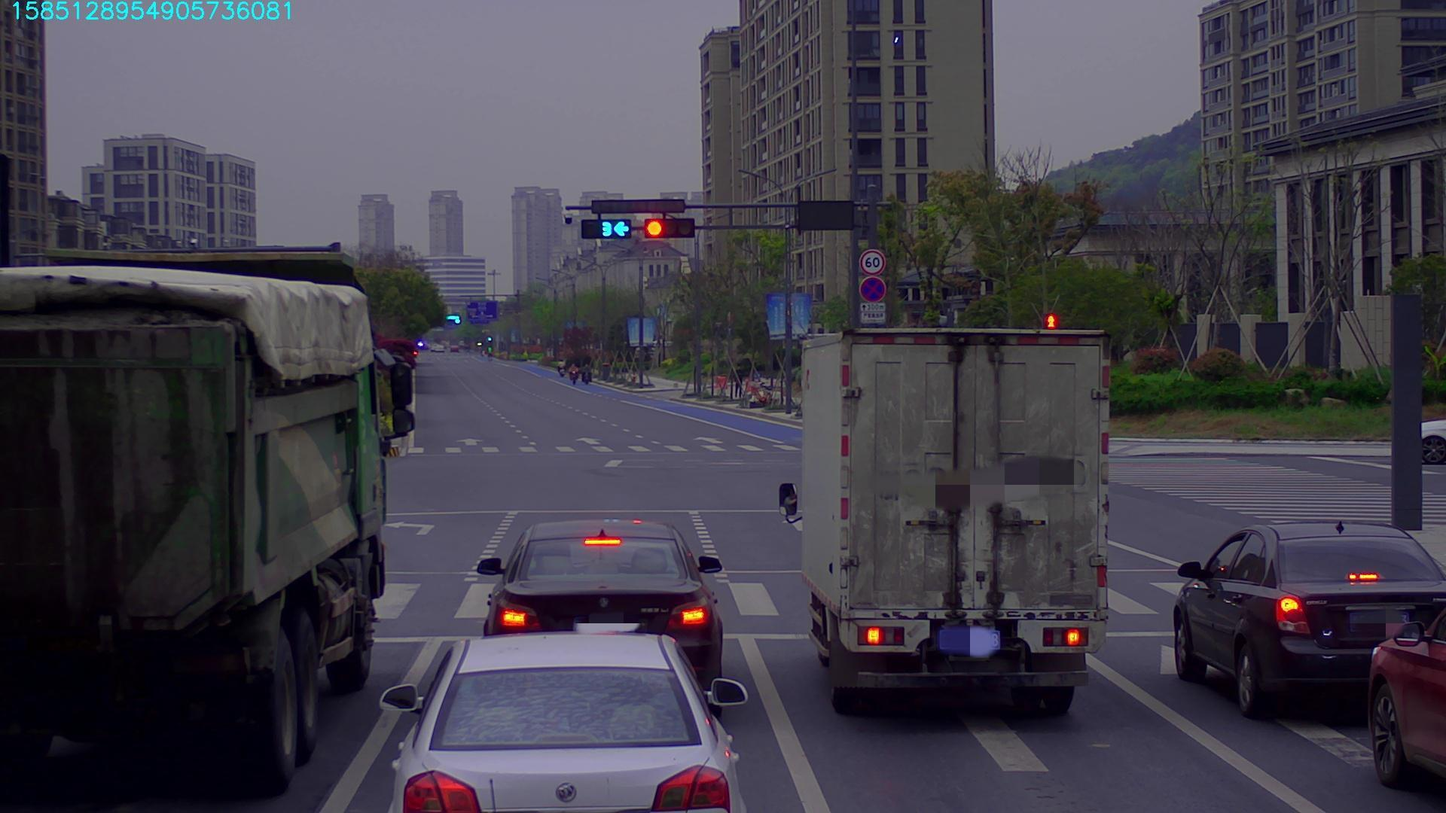green: (584, 220, 630, 237)
red: (639, 217, 691, 238)
